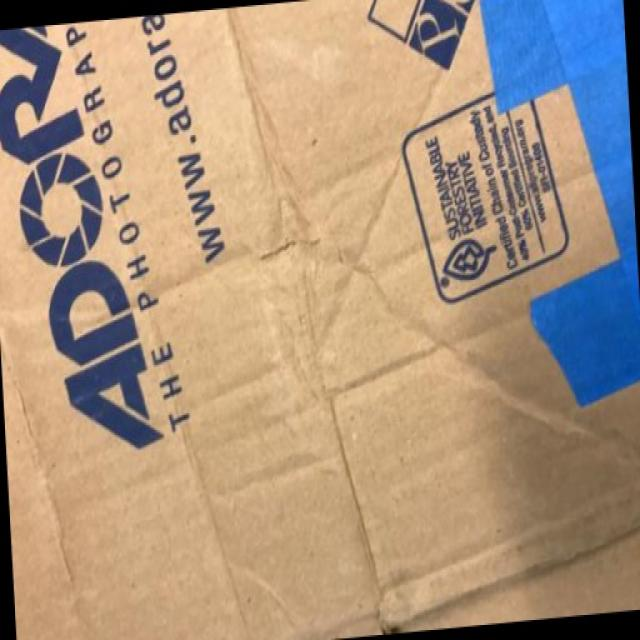carton: (49, 9, 583, 518)
